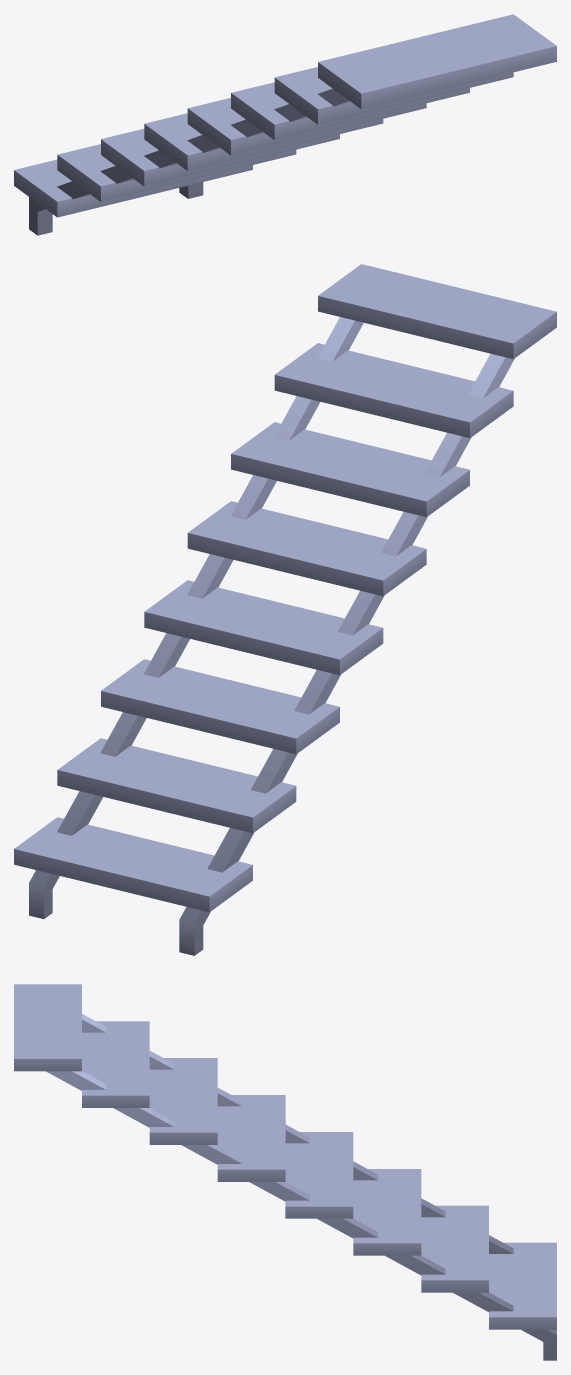
File: Stairs Open.glb
3 views of the same model, one above another, from view 1: azimuth 30°, elevation 25°; view 2: azimuth 150°, elevation 25°; view 3: azimuth 270°, elevation 25° (orthographic). The views are drawn at different scales.
Visible parts, largest first — view 1: stairs-open; view 2: stairs-open; view 3: stairs-open.
Boxes of the visible parts, bbox=[...] form: stairs-open: bbox=[14, 14, 556, 235]; stairs-open: bbox=[14, 264, 556, 955]; stairs-open: bbox=[14, 984, 556, 1360].
Bounding box in the file's own units: 1.3 × 2.5 × 4.
Materials: 1 (1 with a texture image).
